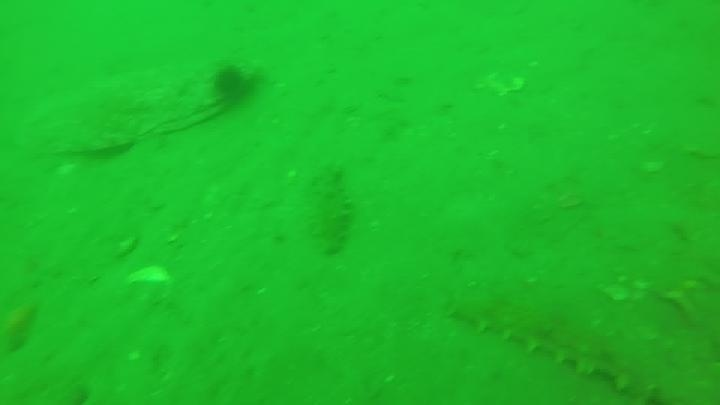echinus: (210, 64, 255, 107)
holothurian: (447, 290, 658, 402), (307, 164, 356, 258)
